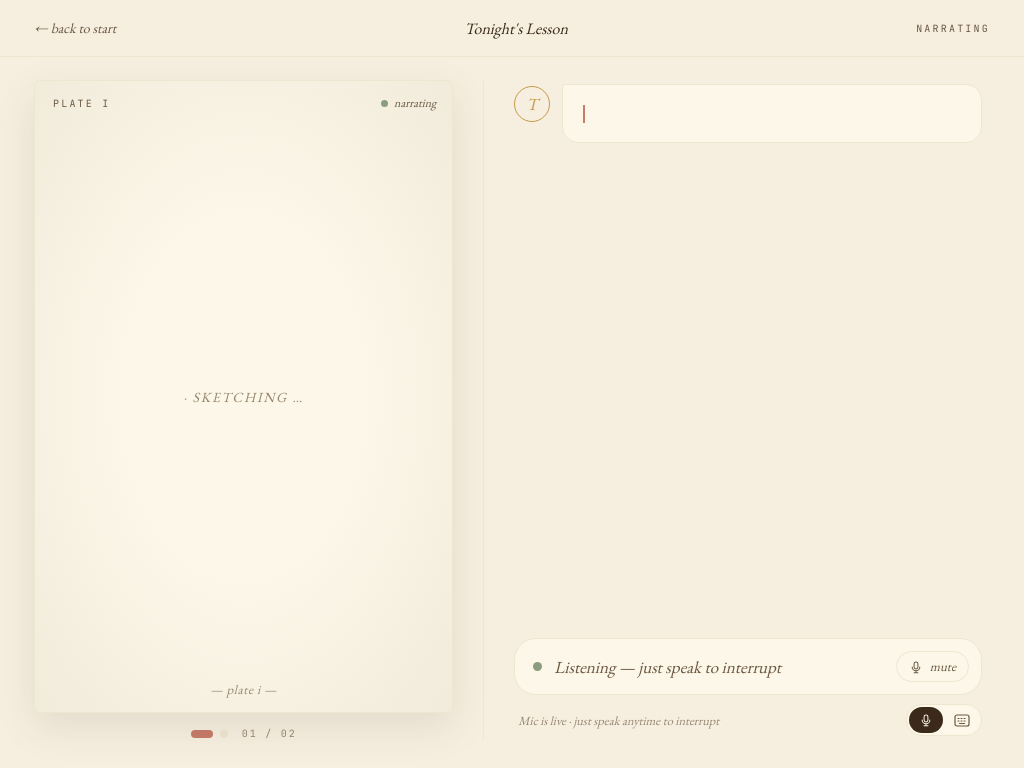
Test: StoryScreen — voice/keyboard toggle (left=voice, right=keyboard) › clicking Keyboard switches to text mode (text input appears, voice bar gone)
This screenshot has width=1024, height=768.
Click the button titled "Keyboard": (962, 720) [945,707,979,733]
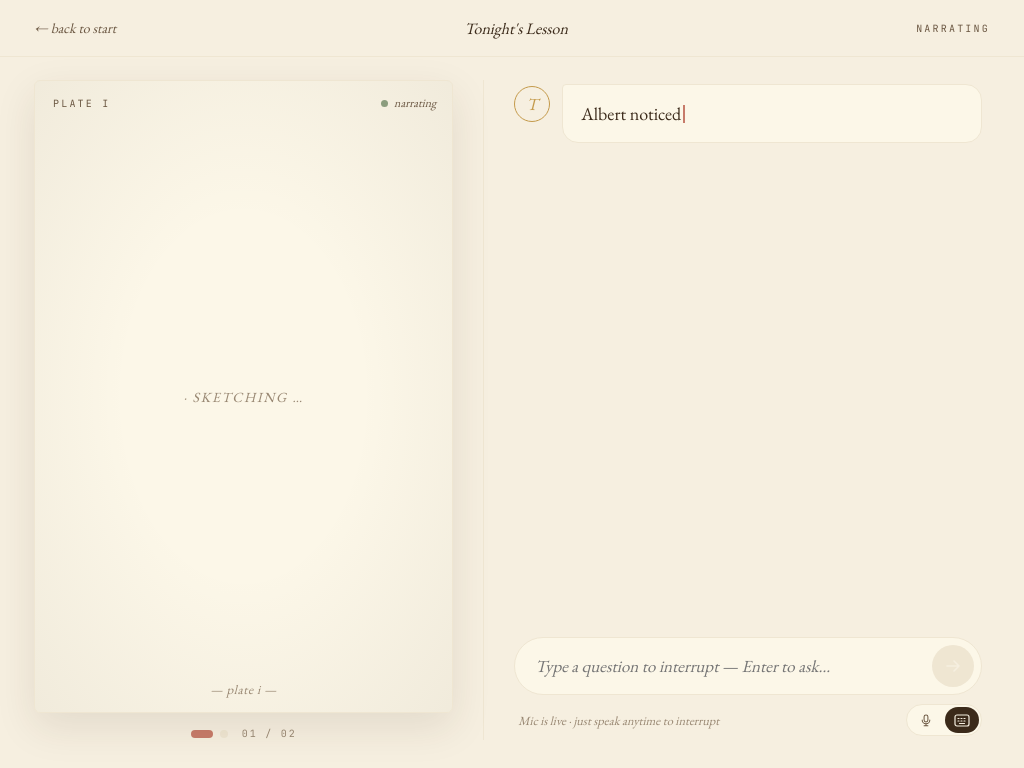
expect the field is shown: met, box [533,654,922,678]
expect the text "just speak to interrupt" is gone: met
